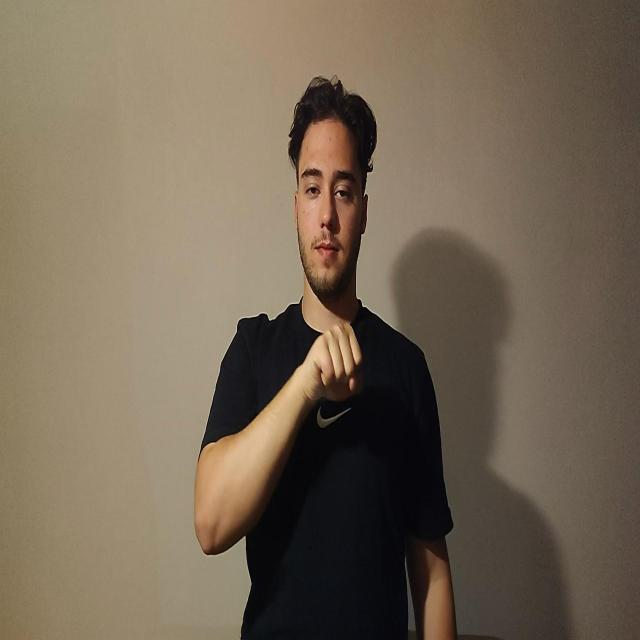yes: (301, 320, 363, 405)
